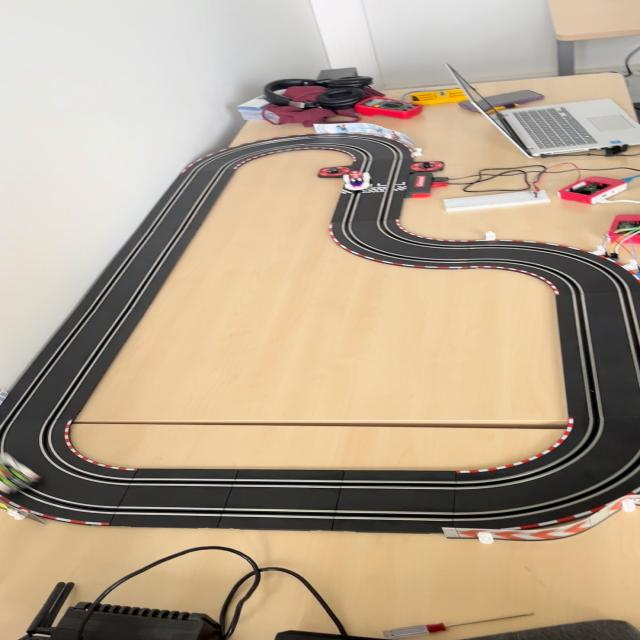mario: (342, 171, 373, 192)
yoshi: (0, 450, 46, 498)
